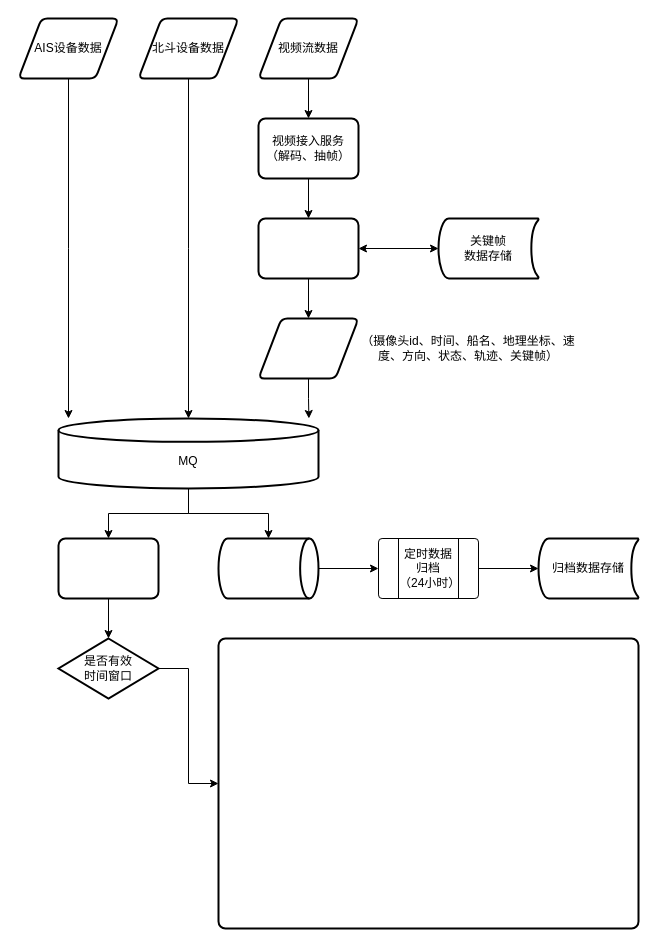
Image size: 656x946. Some labels were removed from this diagram. Each missing label, with the centre of its shape:
AI分析服务 （目标检测、目标跟踪、关键帧存储）: (308,248)
MQ消费: (108,568)
原始数据 存储: (268,568)
数据融合 （判断可信度、新鲜度、空间一致性）: (428,783)
识别目标 船数据: (308,348)
